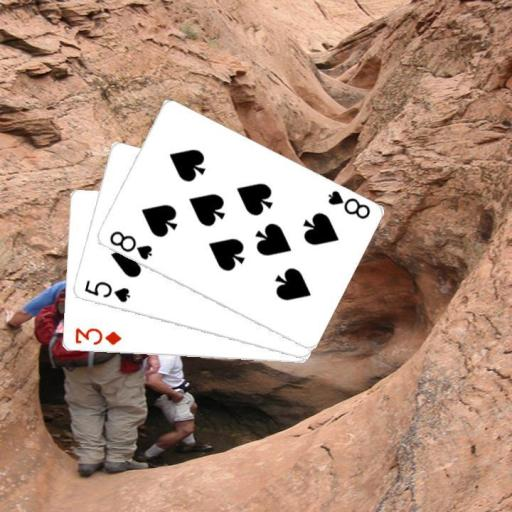3D: (71, 325, 123, 347)
5S: (80, 278, 131, 305)
8S: (105, 228, 154, 262), (324, 187, 372, 221)
